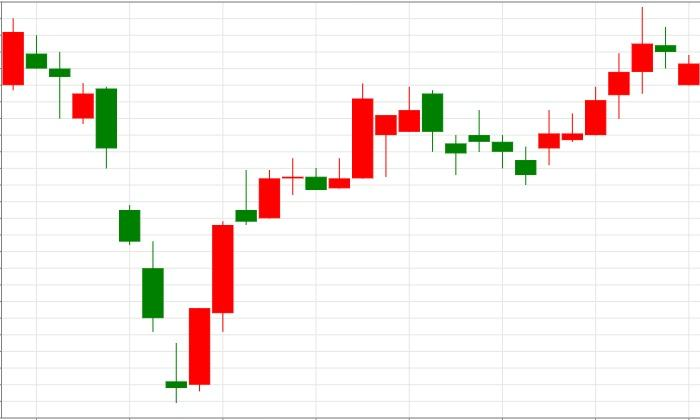morning_star_rise: (26, 35, 210, 403)
